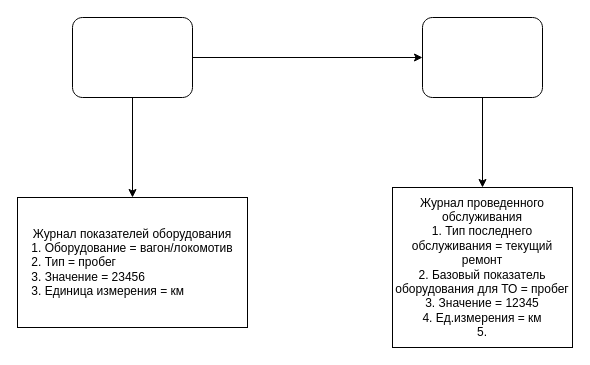
This 590x365 diagram has some shape labels left out. Each missing label, with the centre of its shape:
Определение пробега до следующего ТО: the point at 482,57
Регистрация общего пробега единицы подвижного состава: the point at 132,57
